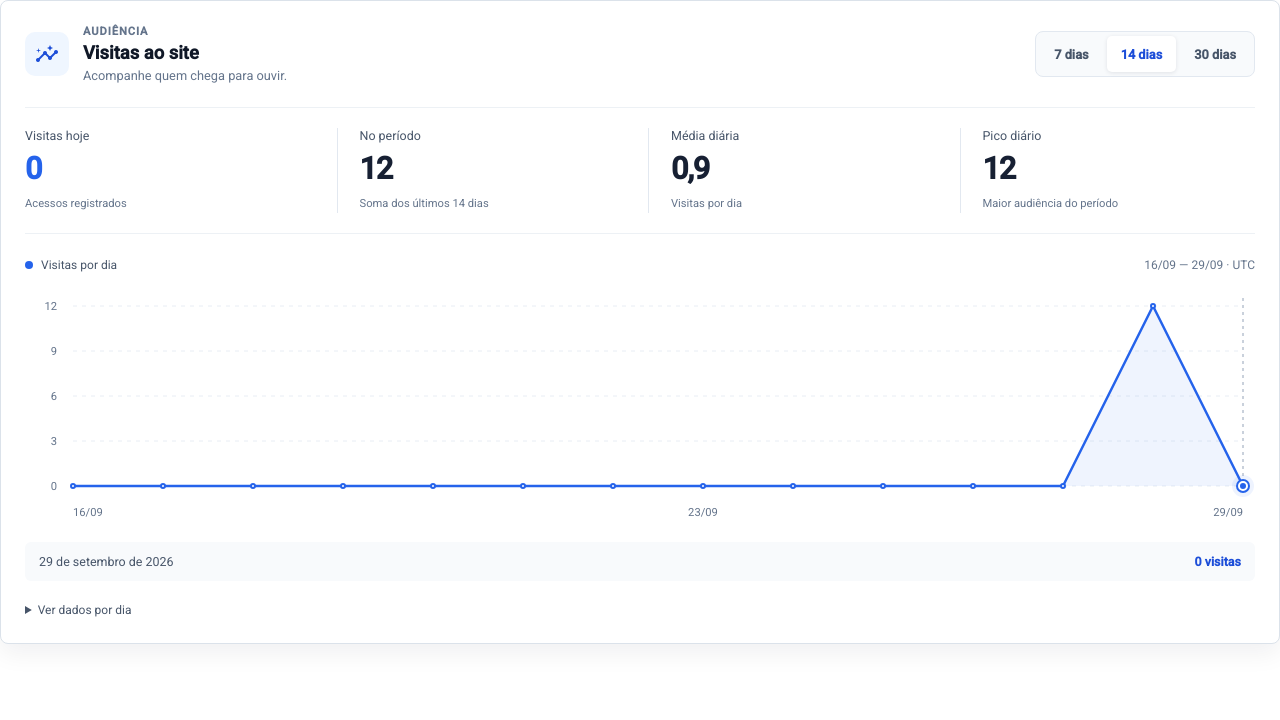
Test case: ProfileVisitsChartComponent › renders a real chart, supports point focus and exposes a daily data table
Focus the 1st button with class "chart-point": coordinates (1153, 306) [1141,292,1165,320]
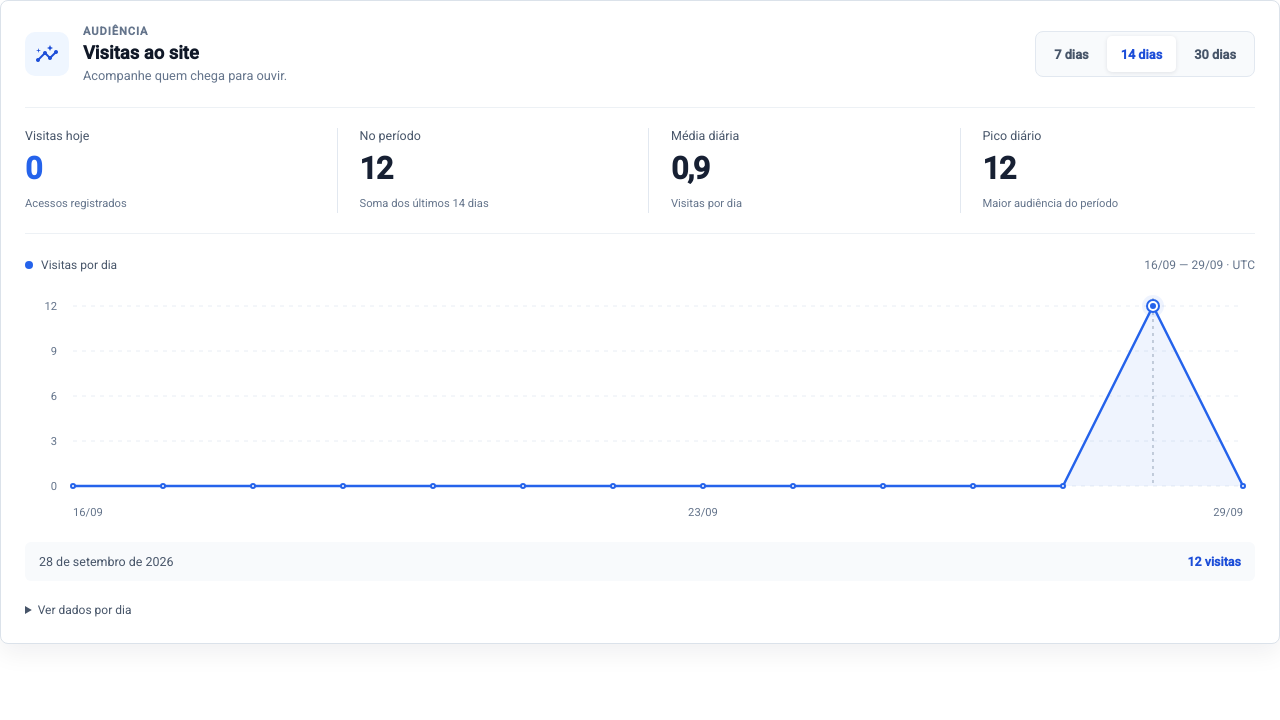
Expected: the text "12 visitas" is shown, [1188,554,1241,569]
